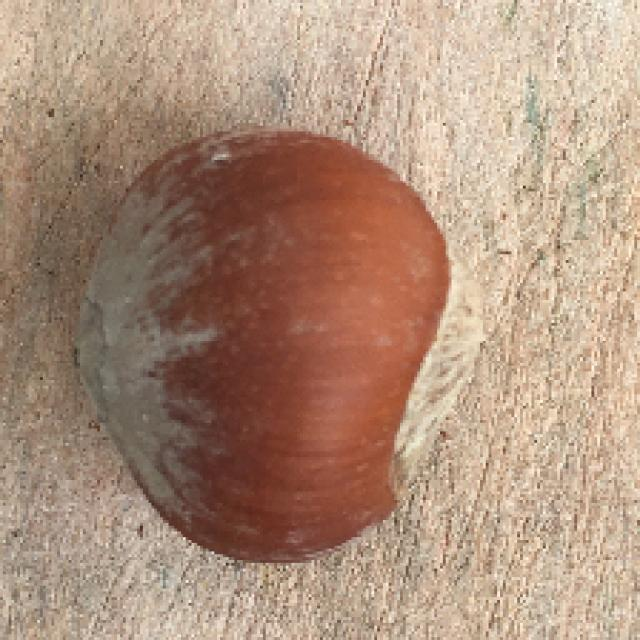QualityHazelnut: (75, 127, 489, 565)
